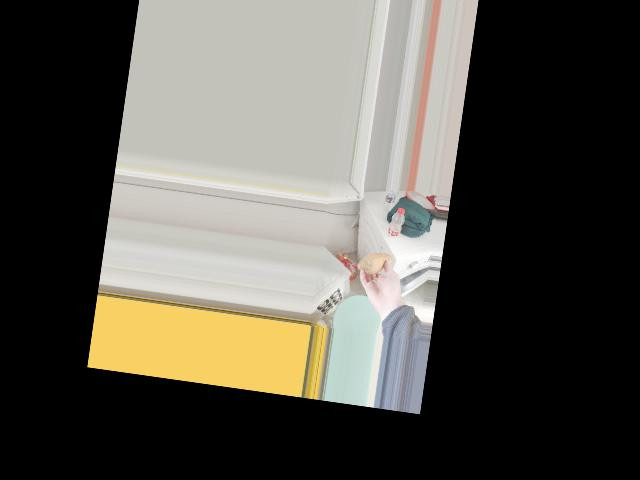sweet_potato: (360, 250, 391, 279)
